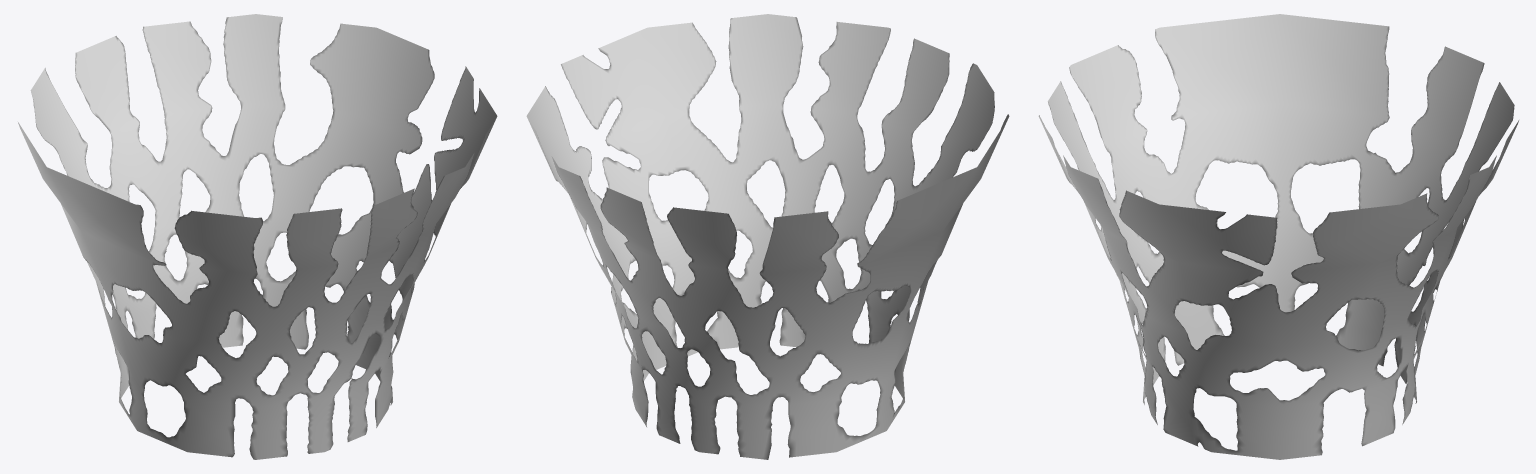
The model's file is HoopNet.fbx.
3 renders of one model, left to right at view 1: azimuth 30°, elevation 25°; view 2: azimuth 150°, elevation 25°; view 3: azimuth 270°, elevation 25°, orthographic.
Visible parts, largest first — view 1: Hoop.001; view 2: Hoop.001; view 3: Hoop.001.
Part boxes in pixels (bbox=[...]): Hoop.001: bbox=[18, 14, 497, 459]; Hoop.001: bbox=[526, 14, 1009, 459]; Hoop.001: bbox=[1038, 14, 1518, 459].
Size of the model in its own units: 33.13 by 21.64 by 33.13.
